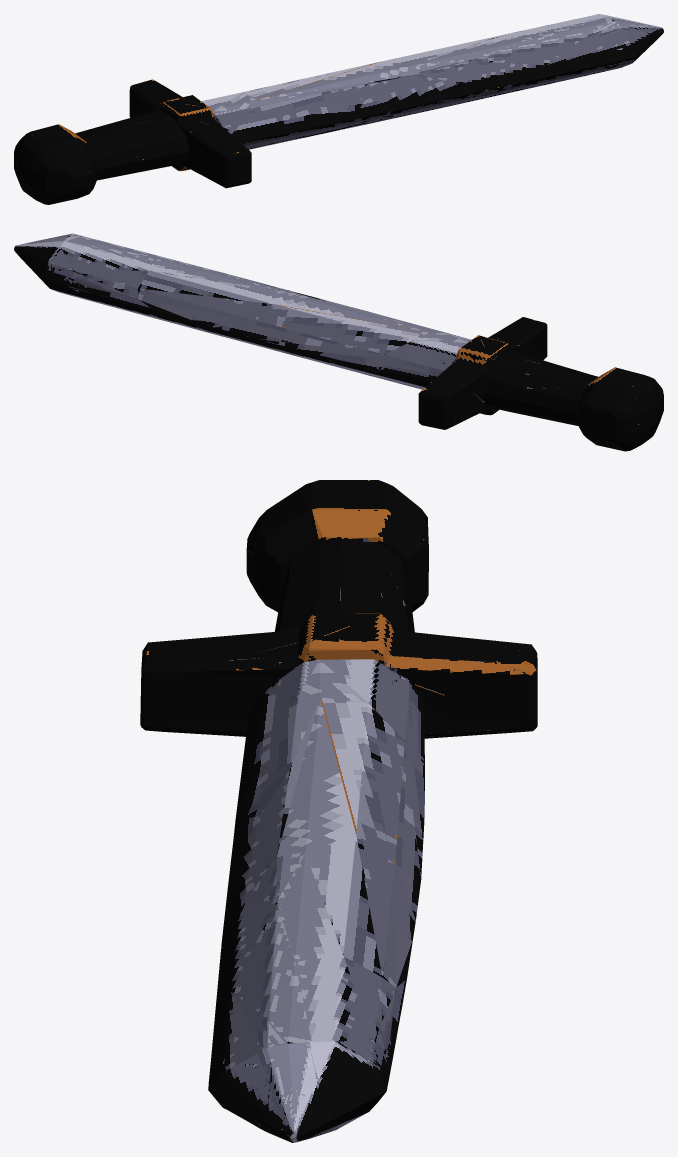
The picture shows the model from 3 angles, top to bottom: view 1: azimuth 30°, elevation 25°; view 2: azimuth 150°, elevation 25°; view 3: azimuth 270°, elevation 25°; orthographic projection. The views are drawn at different scales.
Parts seen in each view (by area): view 1: OBJ005; view 2: OBJ005; view 3: OBJ005.
Boxes of the visible parts, bbox=[...] form: OBJ005: bbox=[14, 14, 663, 204]; OBJ005: bbox=[14, 233, 663, 451]; OBJ005: bbox=[140, 480, 537, 1142].
Bounding box in the file's own units: 0.4443 × 0.0411 × 0.1222.
1 material, 1 textured.
